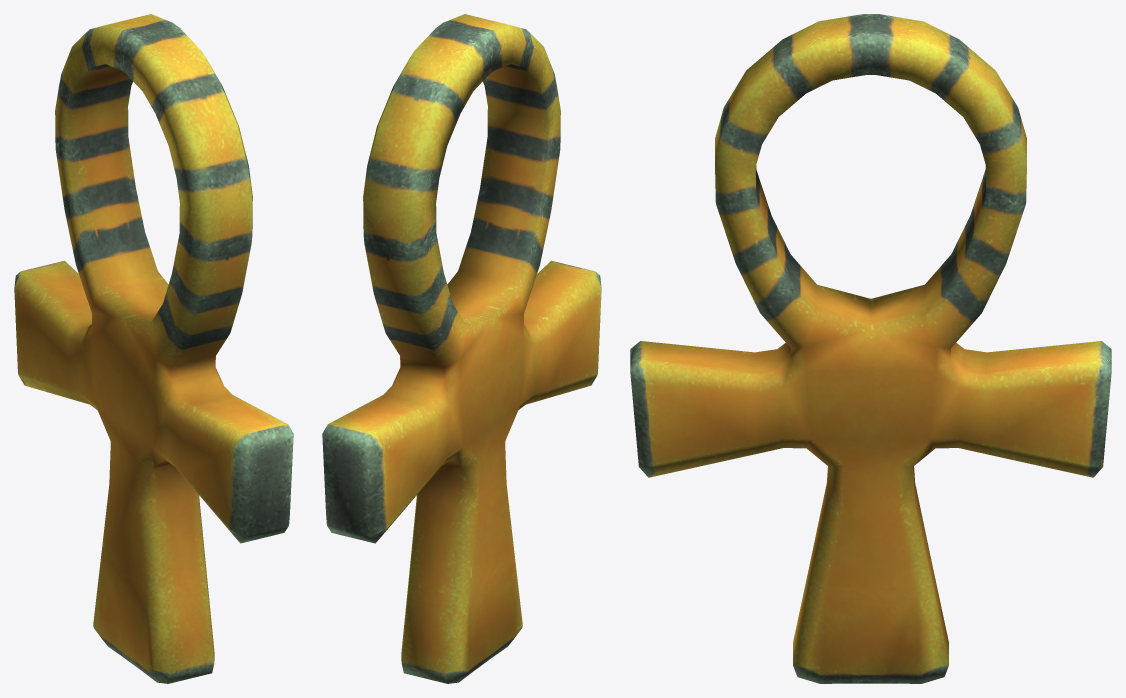
Rendered from ankh_asset.glb.
3 renders of one model, left to right at view 1: azimuth 30°, elevation 25°; view 2: azimuth 150°, elevation 25°; view 3: azimuth 270°, elevation 25°, orthographic. The views are drawn at different scales.
Parts seen in each view (by area): view 1: Plane; view 2: Plane; view 3: Plane.
Part boxes in pixels (x1,y1,x2,y2): Plane: (14, 14, 293, 683); Plane: (322, 14, 601, 683); Plane: (630, 14, 1111, 683).
Bounding box in the file's own units: 17.11 × 170 × 115.
Materials: 1 (1 with a texture image).
